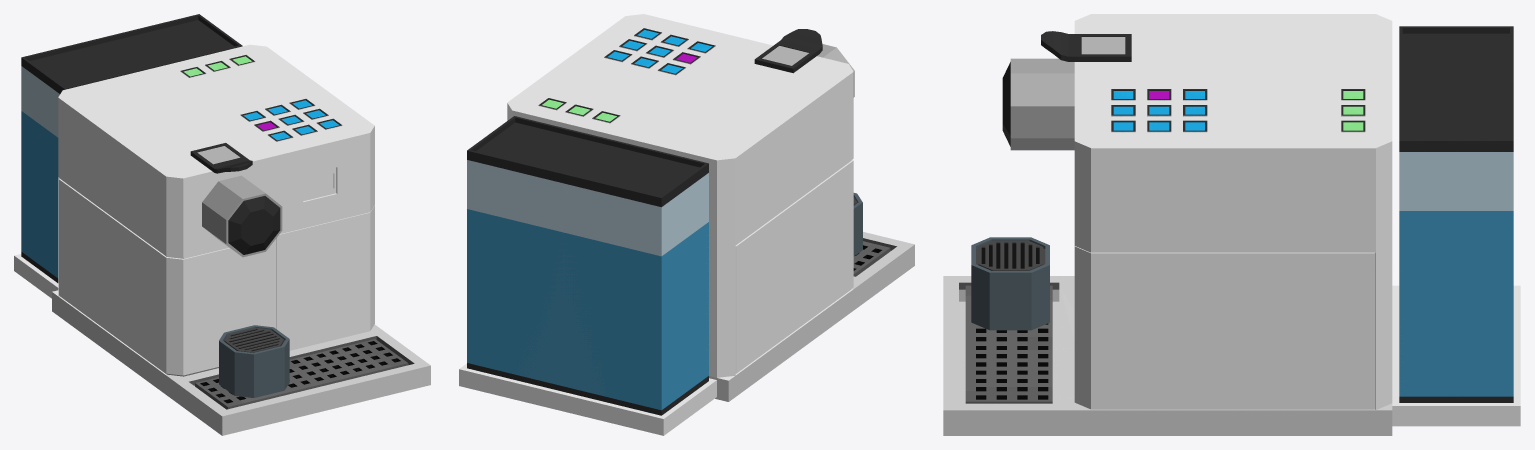
Rendered from coffeemachine.glb.
3 renders of one model, left to right at view 1: azimuth 30°, elevation 25°; view 2: azimuth 150°, elevation 25°; view 3: azimuth 270°, elevation 25°, orthographic. The views are drawn at different scales.
Visible parts, largest first — view 1: Coffeemachine; view 2: Coffeemachine; view 3: Coffeemachine.
Boxes of the visible parts, <box> form: Coffeemachine: <box>14,14,430,435</box>; Coffeemachine: <box>459,14,914,435</box>; Coffeemachine: <box>943,14,1520,435</box>.
Bounding box in the file's own units: 2 × 2.09 × 3.63.
Materials: 1 (1 with a texture image).
